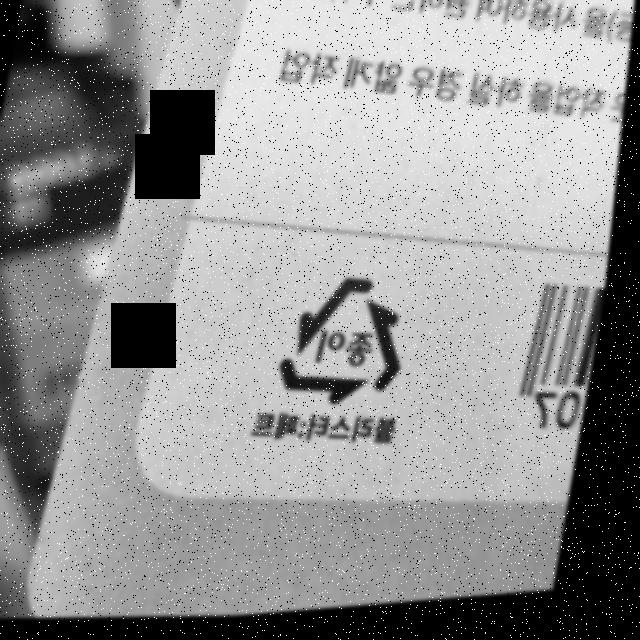Paper: (277, 271, 428, 421)
